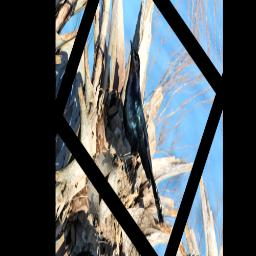Crow: (97, 39, 193, 235)
